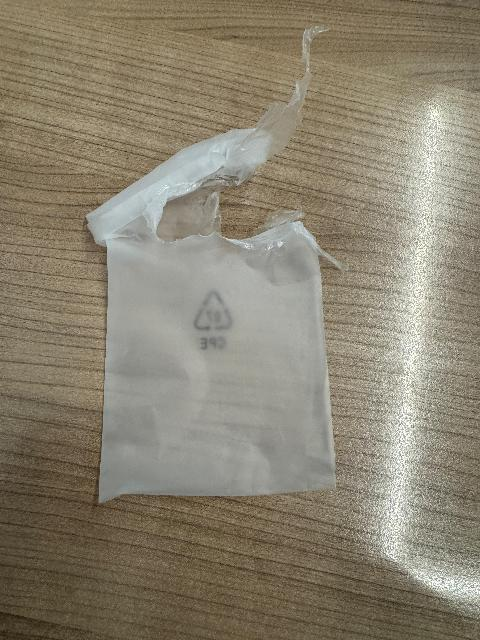Plastik: (86, 172, 345, 495)
